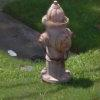Hydrant: (31, 2, 81, 87)
